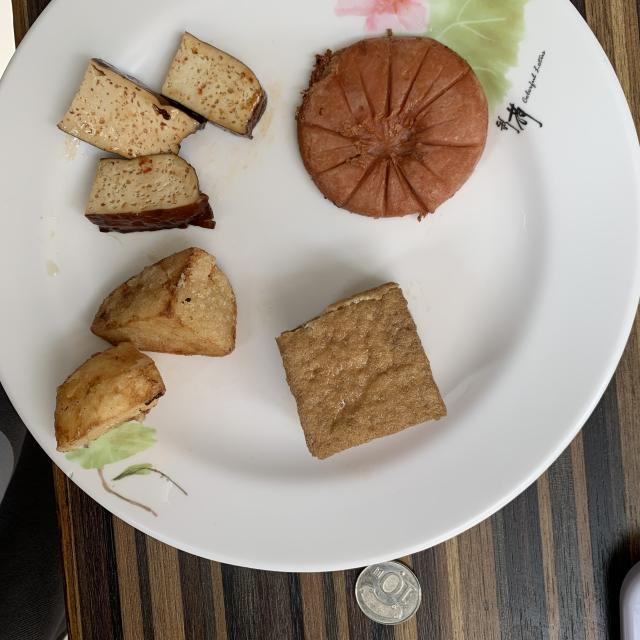Spam: (296, 36, 488, 218)
coin: (355, 561, 421, 625)
egg tofu: (276, 286, 446, 459)
firm tofu: (58, 32, 266, 232)
fried potato: (55, 248, 236, 452)
